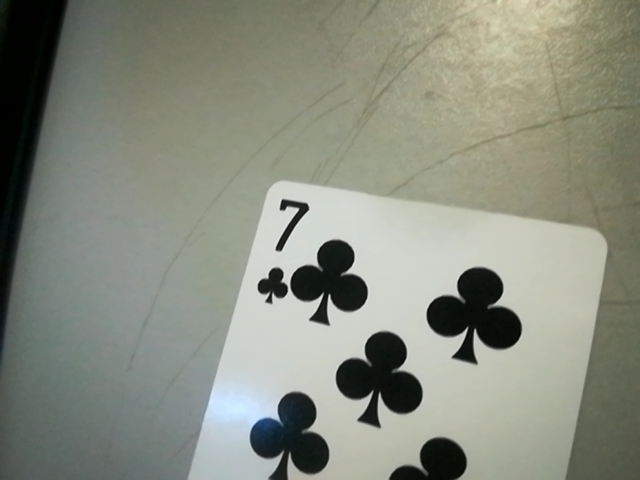mh 7: (250, 193, 305, 302)
